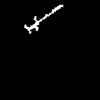double_crochet: (25, 5, 62, 32)
